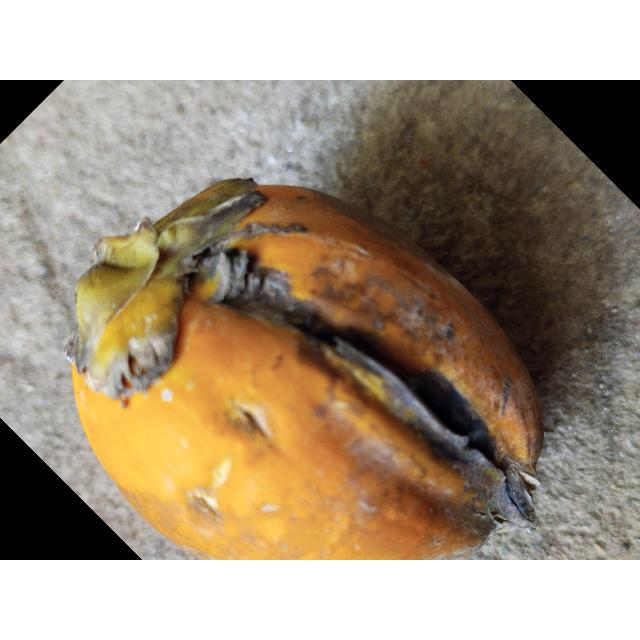damaged: (66, 178, 544, 560)
